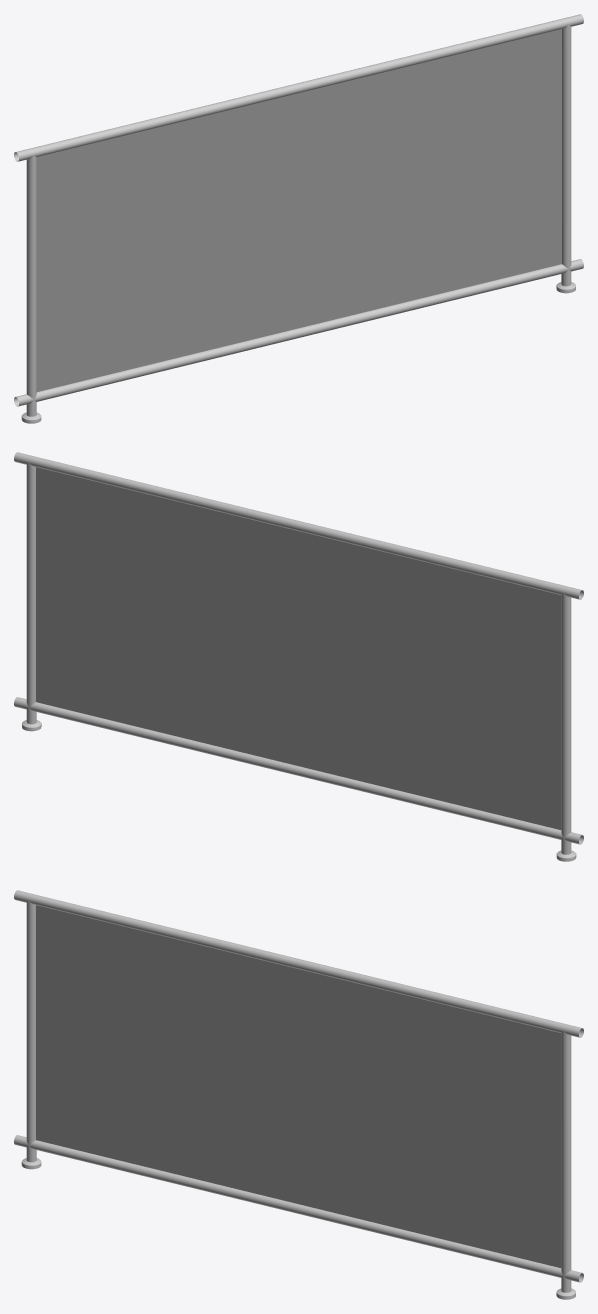
File: SM_MetalGrill_Wall_01.fbx
3 renders of one model, top to bottom at view 1: azimuth 30°, elevation 25°; view 2: azimuth 150°, elevation 25°; view 3: azimuth 330°, elevation 25°, orthographic.
Parts seen in each view (by area): view 1: SM_MetalGrill_Wall_01_LOD0; view 2: SM_MetalGrill_Wall_01_LOD0; view 3: SM_MetalGrill_Wall_01_LOD0.
Boxes of the visible parts, left/top/right/bottom form: SM_MetalGrill_Wall_01_LOD0: left=14, top=14, right=583, bottom=423; SM_MetalGrill_Wall_01_LOD0: left=14, top=452, right=583, bottom=861; SM_MetalGrill_Wall_01_LOD0: left=14, top=890, right=583, bottom=1299.
Size of the model in its own units: 383 by 11.61 by 176.
Materials: 2 (1 with a texture image).
